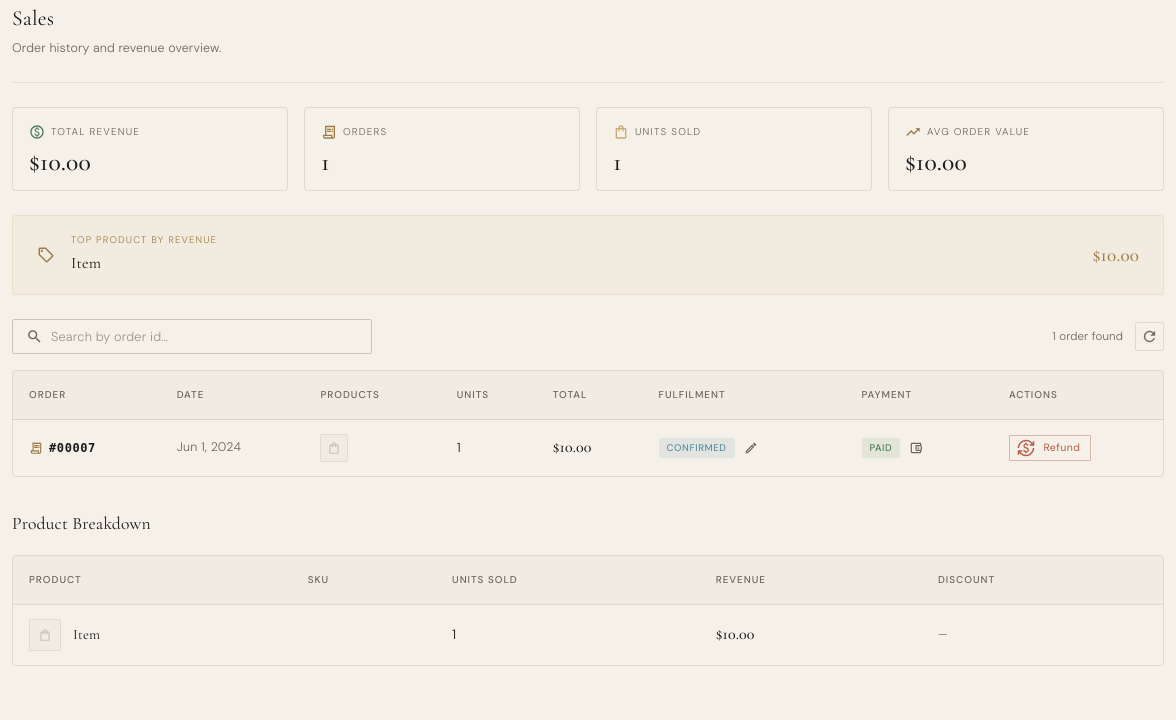
Test case: AdminSells — refunds › surfaces a server error (e.g. 409 already refunded) without changing the row
Click the button "Refund": (1050, 448) [1009,435,1091,462]
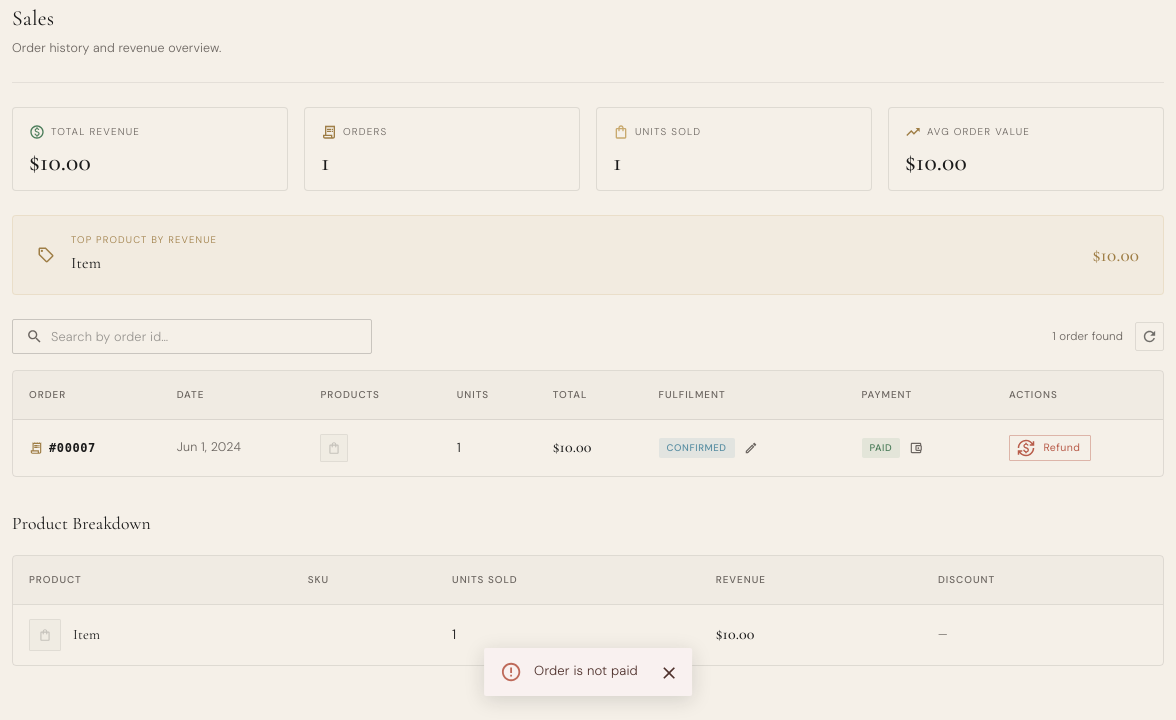
Expected: the text "Order is not paid" is shown, [534,662,638,679]
